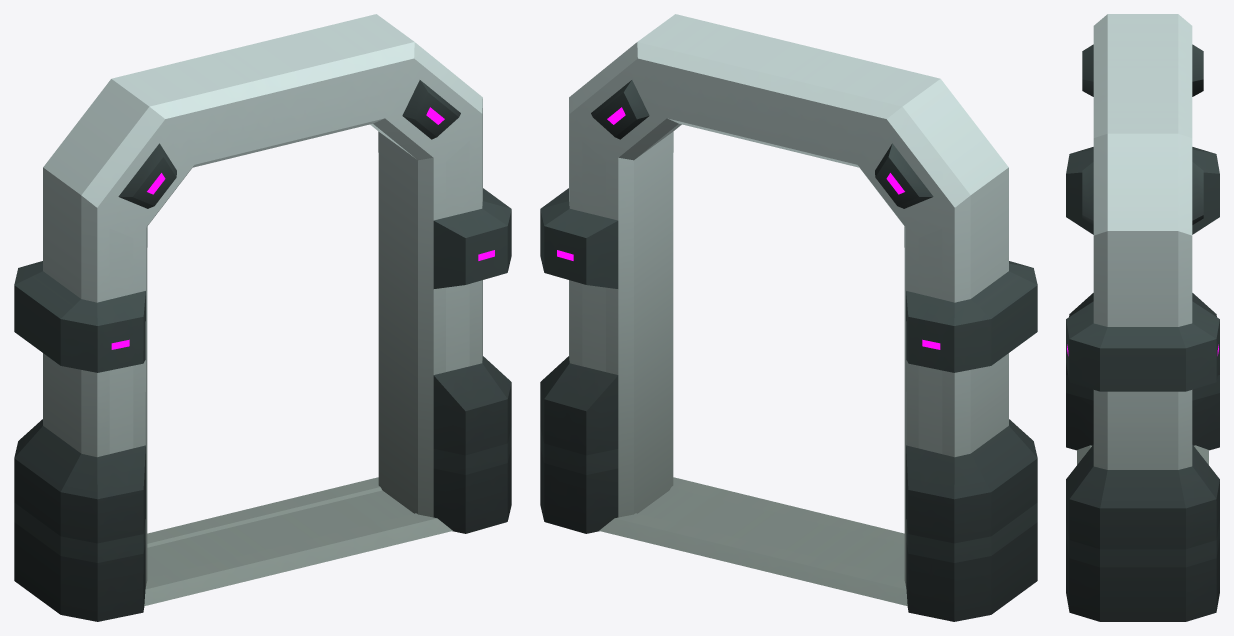
File: door.fbx
3 views of the same model, side by side, from view 1: azimuth 30°, elevation 25°; view 2: azimuth 150°, elevation 25°; view 3: azimuth 270°, elevation 25° (orthographic). The views are drawn at different scales.
Parts seen in each view (by area): view 1: door; view 2: door; view 3: door.
Part boxes in pixels (left/top/right/bottom): door: left=14, top=14, right=511, bottom=621; door: left=540, top=14, right=1037, bottom=621; door: left=1066, top=14, right=1219, bottom=621.
Bounding box in the file's own units: 376 × 384 × 120.
